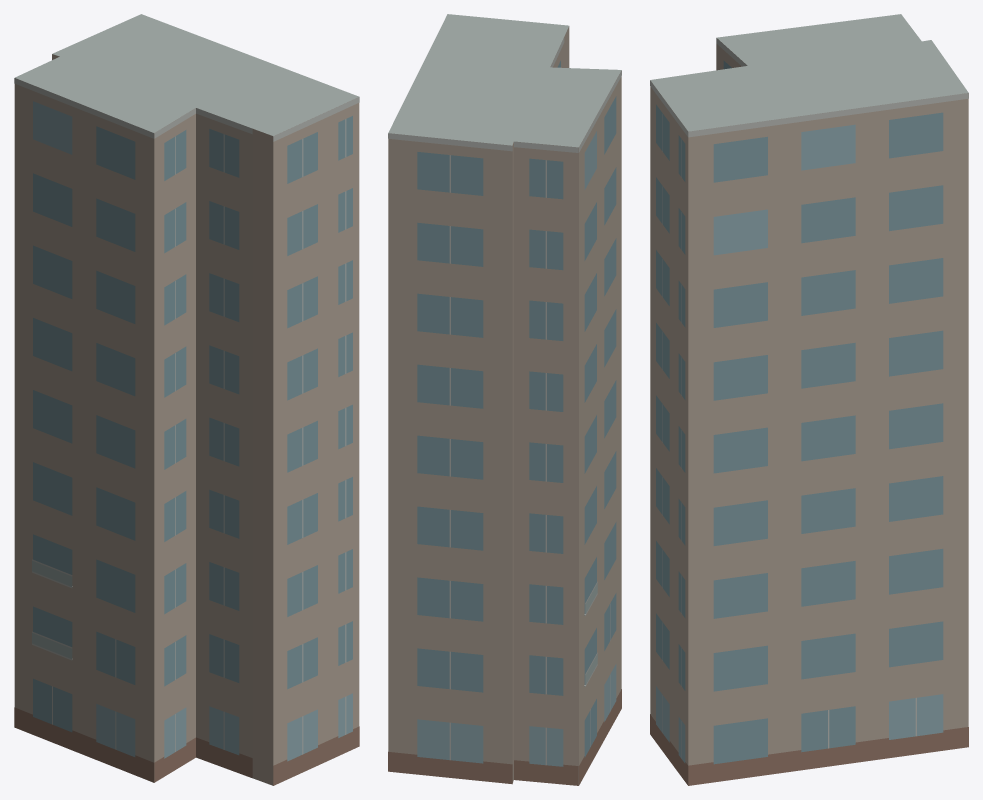
Rendered from survey-upis-32531245.glb.
The picture shows the model from 3 angles, left to right: view 1: azimuth 30°, elevation 25°; view 2: azimuth 150°, elevation 25°; view 3: azimuth 270°, elevation 25°; orthographic projection. The views are drawn at different scales.
Parts seen in each view (by area): view 1: survey-upis-32531245.tmp; view 2: survey-upis-32531245.tmp; view 3: survey-upis-32531245.tmp.
Boxes of the visible parts, x1,y1,x2,y2 form: survey-upis-32531245.tmp: [14, 14, 359, 785]; survey-upis-32531245.tmp: [388, 14, 621, 785]; survey-upis-32531245.tmp: [650, 14, 968, 785].
Size of the model in its own units: 10.59 by 27.45 by 12.13.
